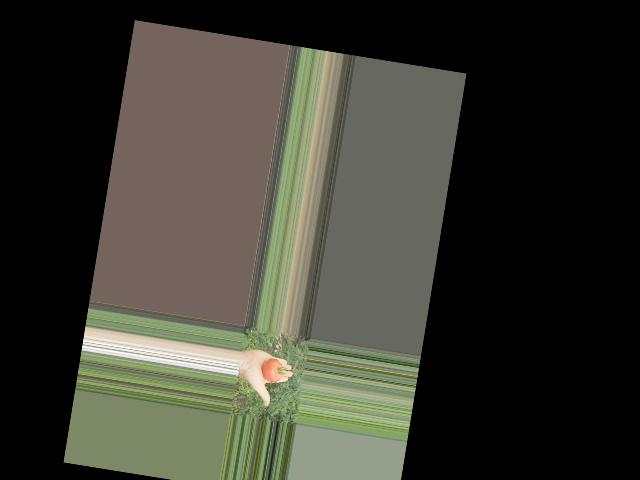tomato: (260, 356, 284, 383)
